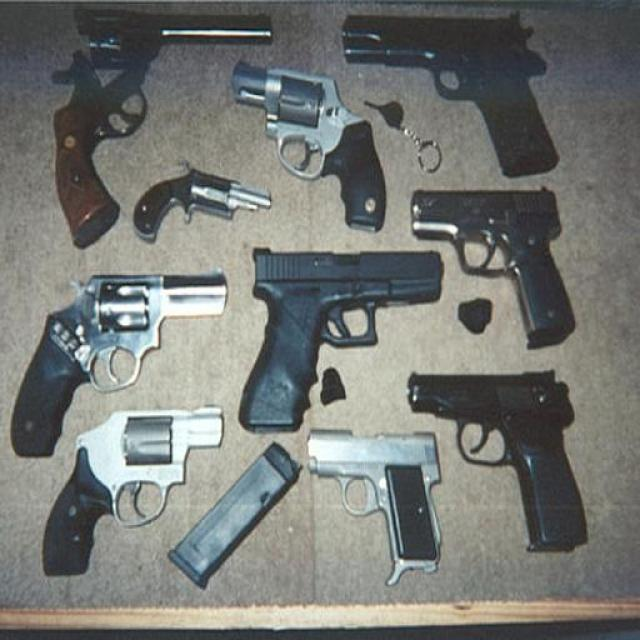pistol: (38, 13, 273, 249), (9, 275, 229, 457), (235, 248, 444, 429), (339, 13, 560, 178), (405, 367, 587, 550), (37, 406, 225, 575), (411, 185, 575, 350), (231, 59, 387, 231), (304, 427, 443, 581), (130, 160, 274, 244)
